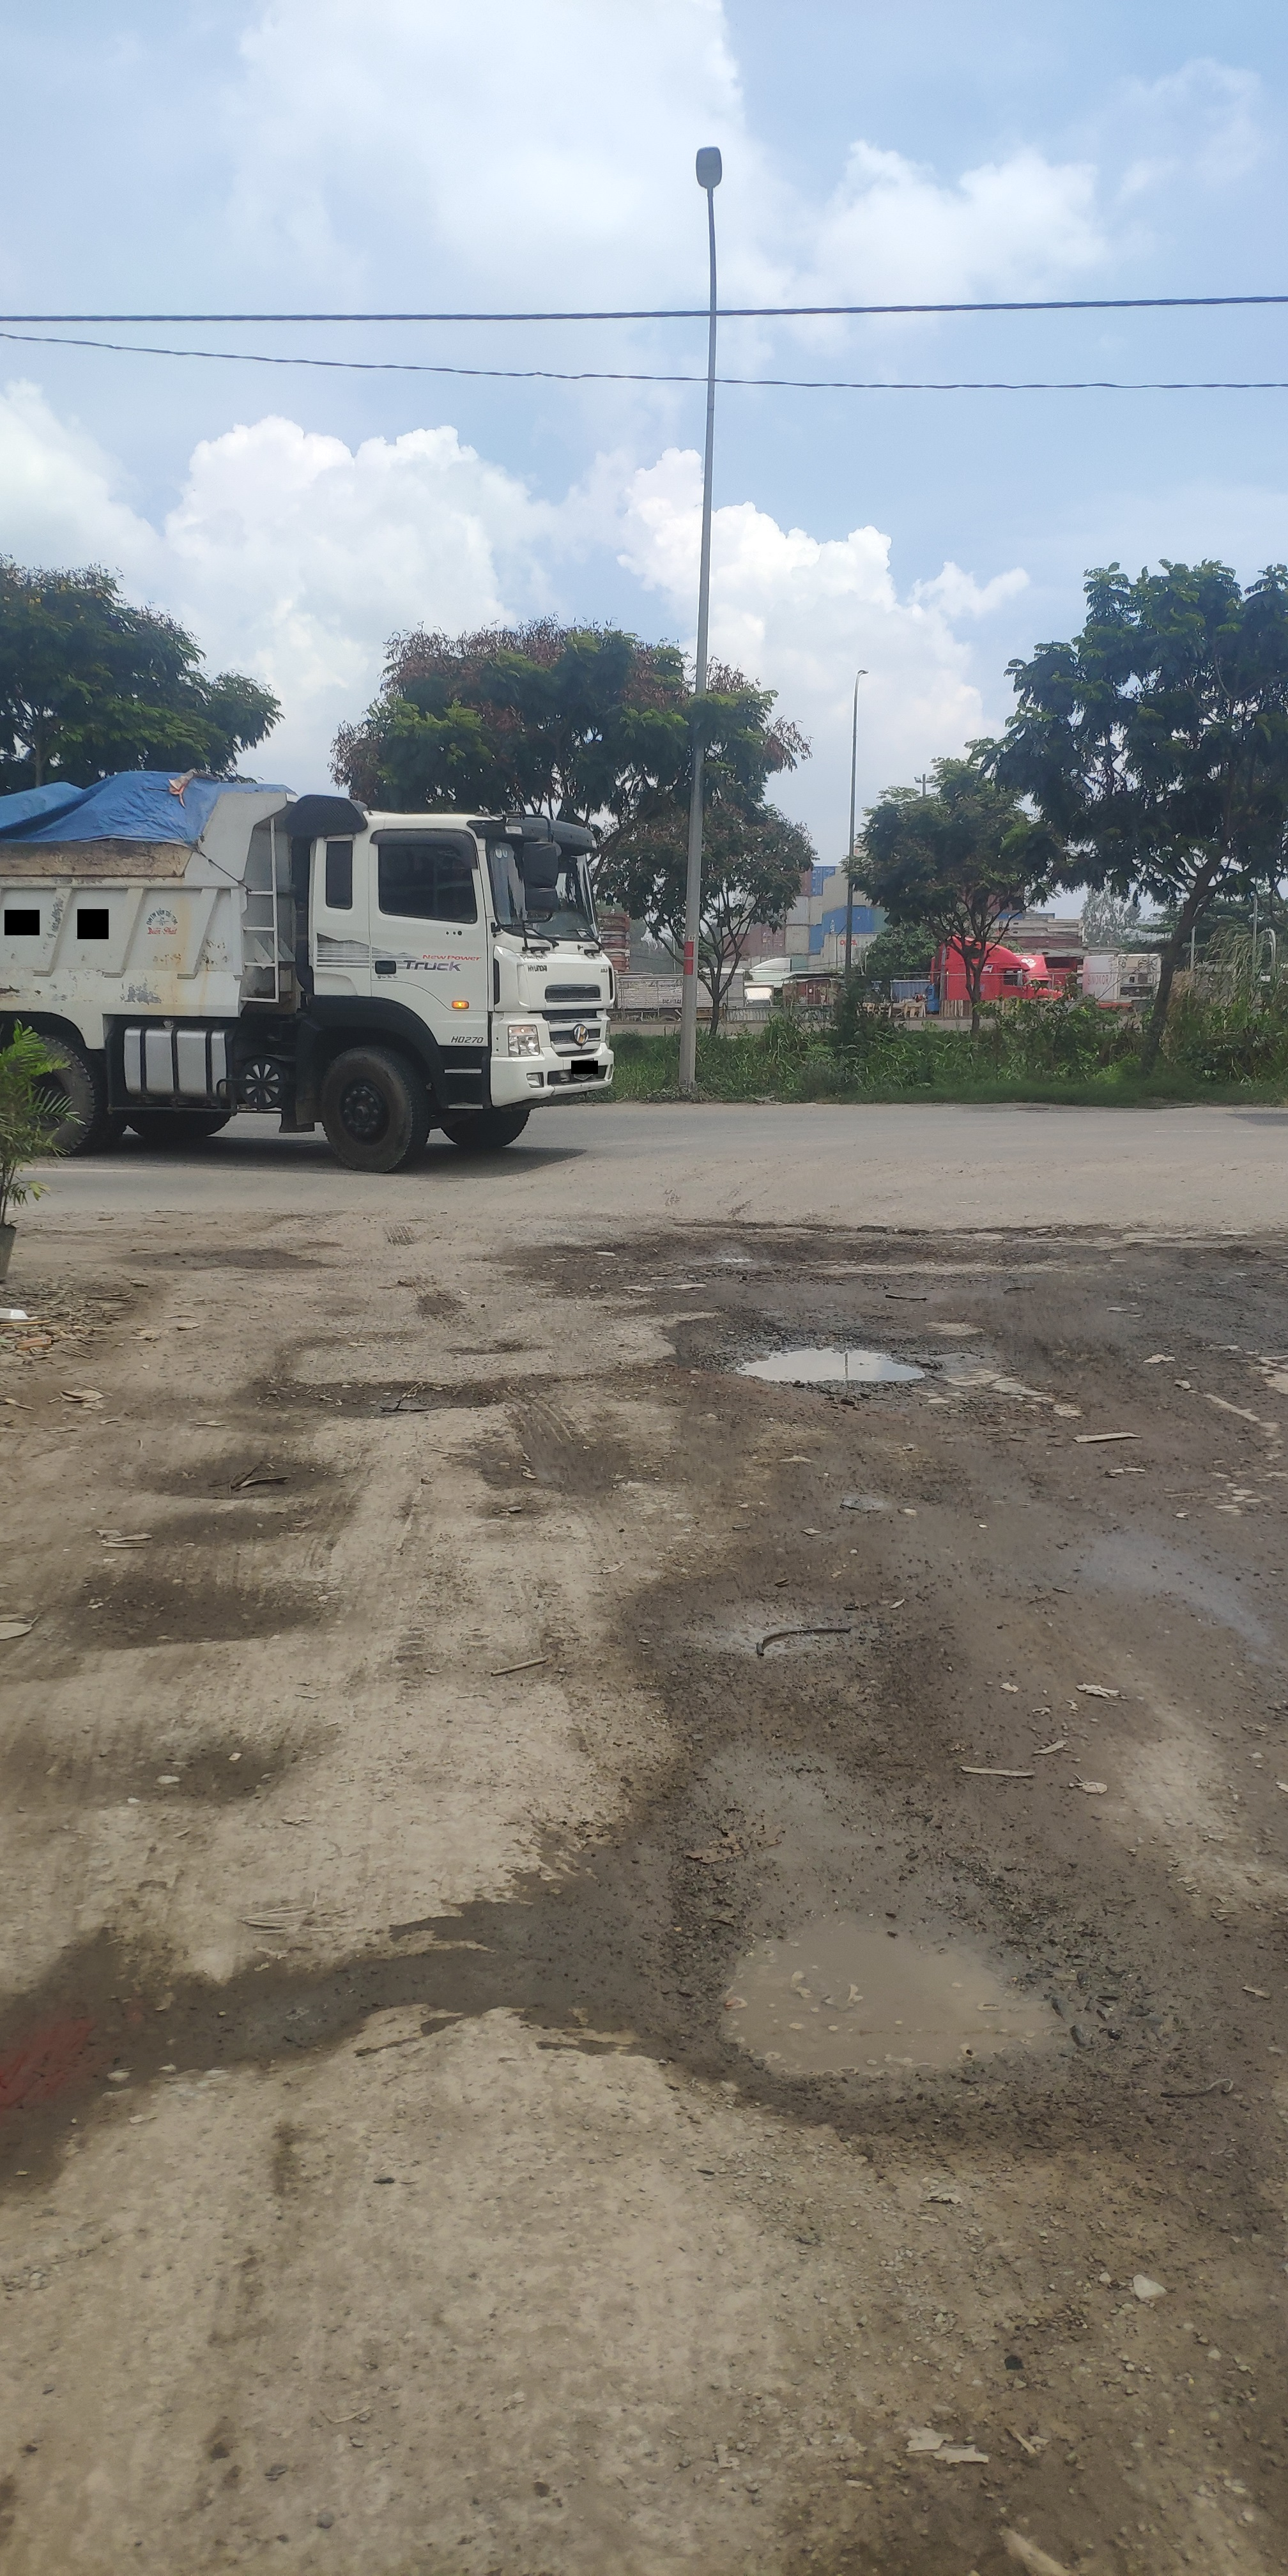hole: (710, 1889, 1107, 2101), (61, 1569, 327, 1658), (682, 1577, 871, 1674), (723, 1321, 933, 1391), (135, 1735, 307, 1819), (163, 1444, 342, 1506), (315, 1370, 509, 1423), (148, 1240, 335, 1280), (527, 1444, 621, 1497), (697, 1245, 762, 1275)
